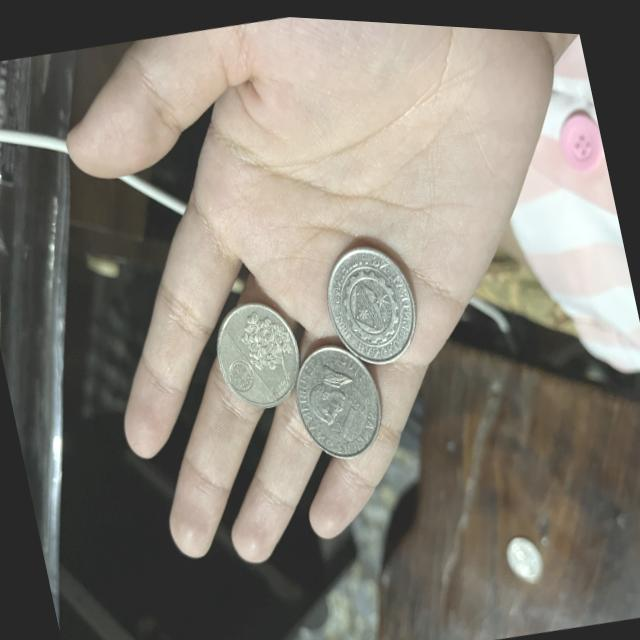1_New_Back: (231, 298, 303, 384)
1_Old_Back: (318, 234, 428, 369)
1_Old_Front: (318, 381, 372, 449)
